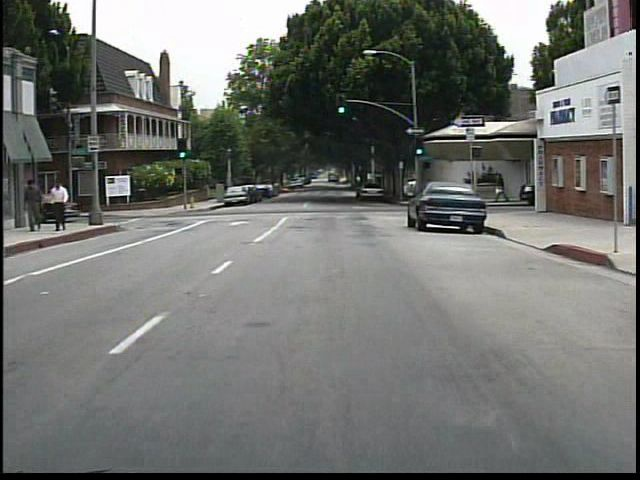person: (23, 176, 49, 235), (51, 179, 76, 234), (490, 170, 510, 205)
